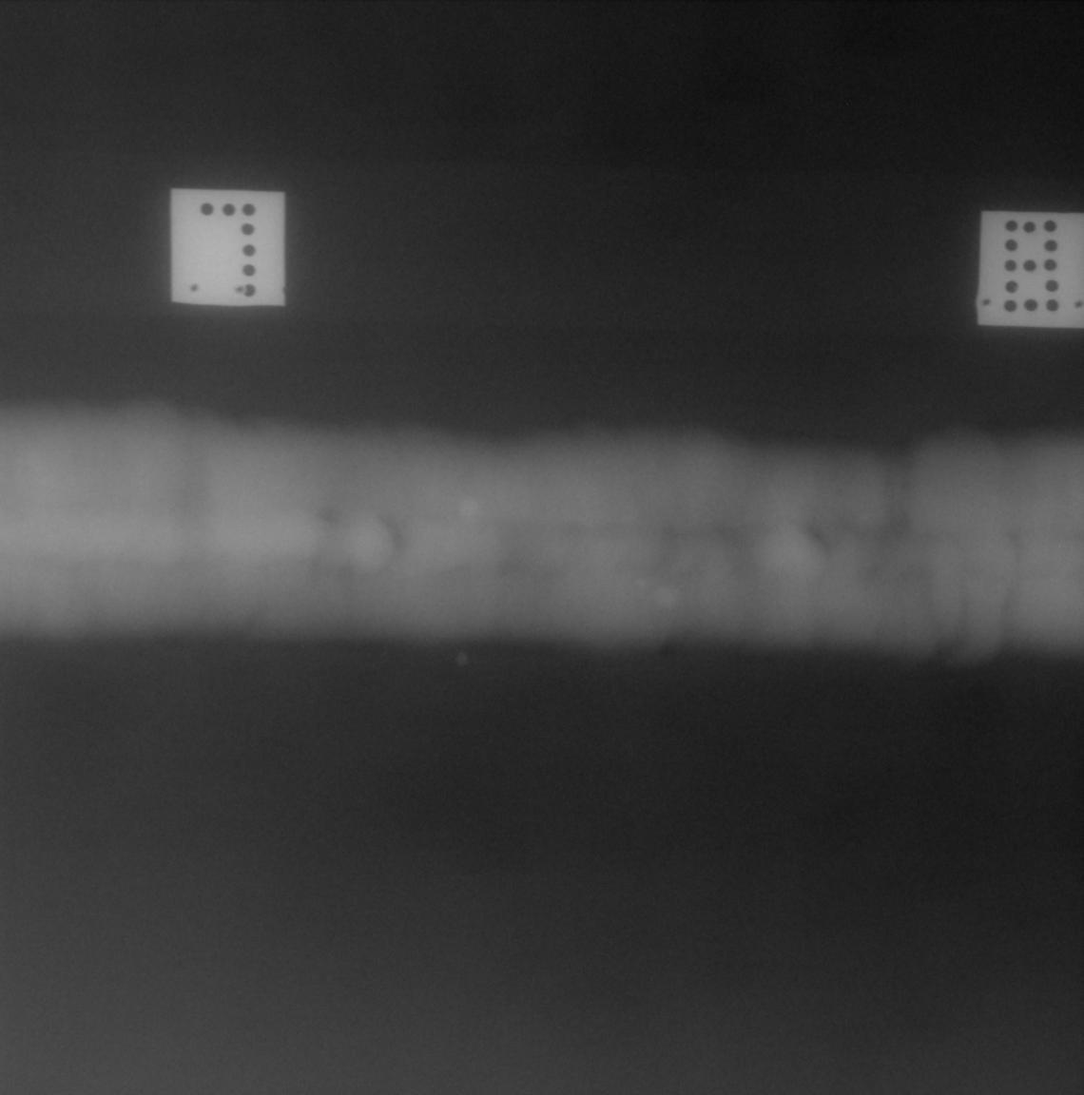Undercut: (663, 649, 675, 655)
